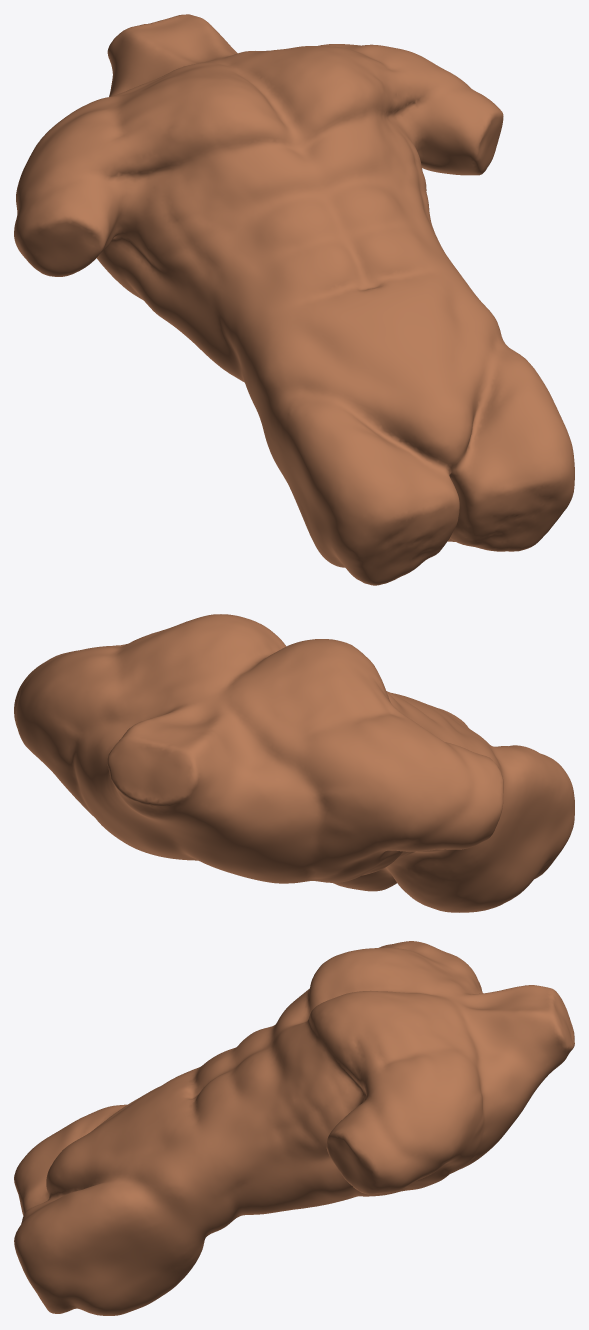
The model's file is torso.gltf.
The picture shows the model from 3 angles, top to bottom: view 1: azimuth 30°, elevation 25°; view 2: azimuth 150°, elevation 25°; view 3: azimuth 270°, elevation 25°; orthographic projection. The views are drawn at different scales.
Visible parts, largest first — view 1: Day9: Body Male; view 2: Day9: Body Male; view 3: Day9: Body Male.
Part boxes in pixels (x1,y1,x2,y2): Day9: Body Male: [14, 14, 574, 585]; Day9: Body Male: [14, 614, 574, 912]; Day9: Body Male: [14, 941, 574, 1315].
Bounding box in the file's own units: 2.98 × 2.19 × 3.55.
